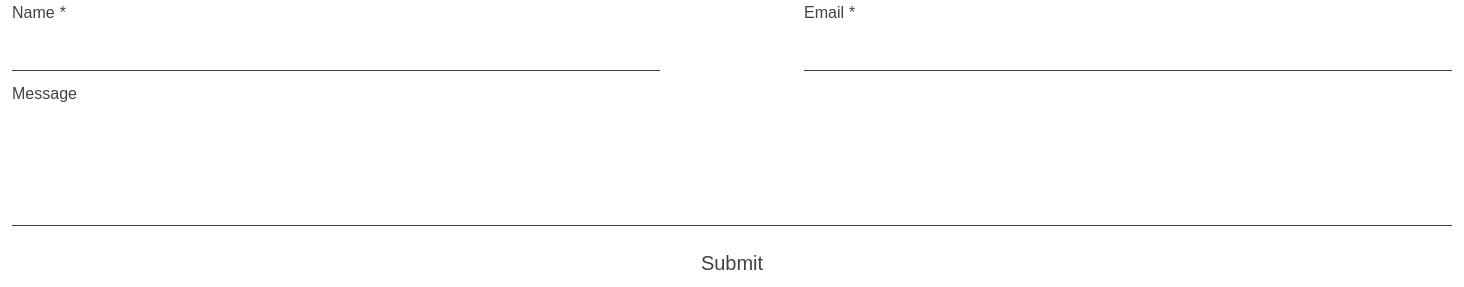
Scenario: ContactForm data entry capability › user is able to enter message in ContactForm
The image size is (1464, 287).
Click the text box labelled "Message". click: (732, 166)
box: [12, 106, 1452, 226]
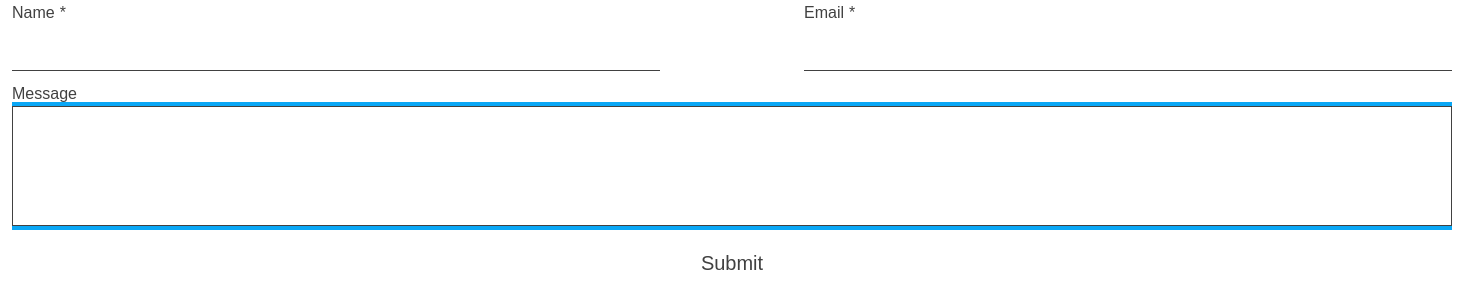
Type keys "Test message"
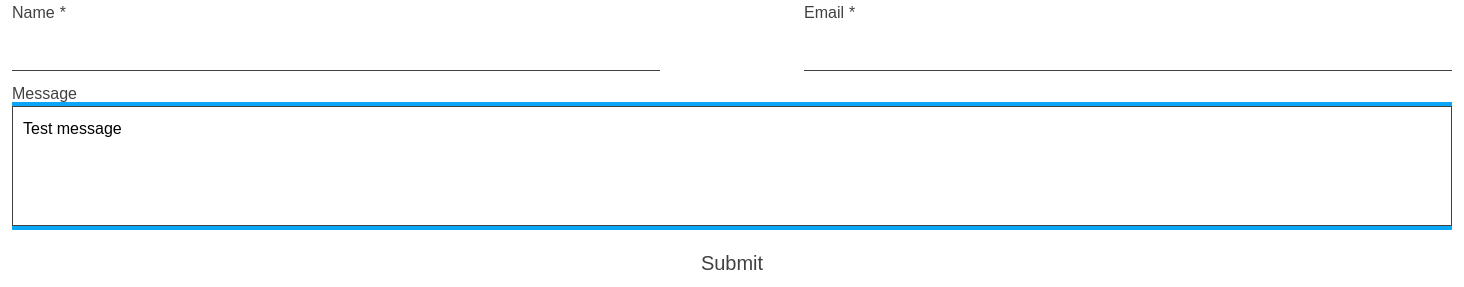
Result: the text box labelled "Message" holds "Test message" at [12, 106, 1452, 226]
